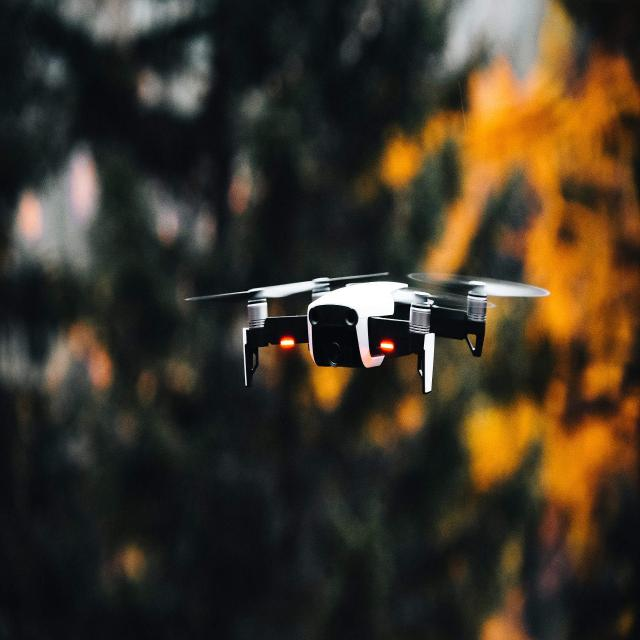drone: (183, 273, 551, 394)
